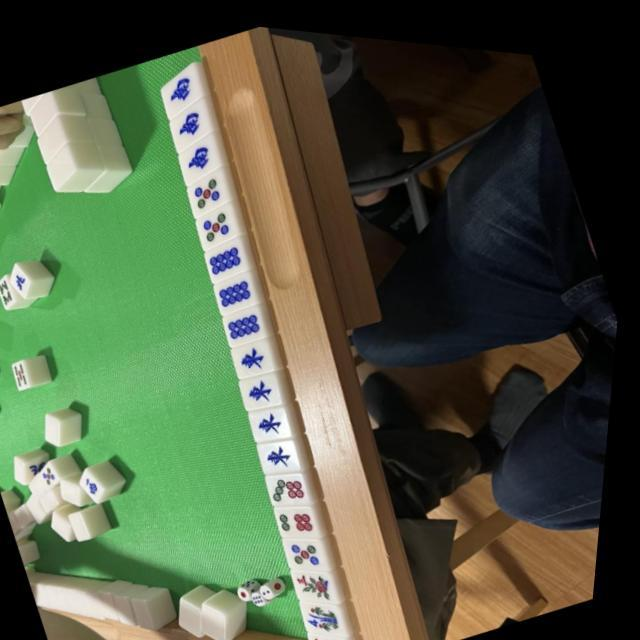bf4: (309, 584, 359, 630)
bs1: (316, 614, 368, 640)
bs3: (298, 551, 349, 600)
hwe: (253, 393, 301, 439), (244, 361, 292, 407), (235, 328, 283, 374), (264, 426, 312, 472)
hws: (166, 97, 214, 141), (176, 131, 224, 175), (158, 64, 204, 104)
sd5: (188, 164, 235, 210), (292, 520, 338, 565), (198, 198, 242, 240)
sd6: (282, 490, 328, 533)
sd7: (272, 458, 321, 504)
sd8: (206, 231, 254, 276), (226, 296, 274, 341), (216, 264, 264, 308)
